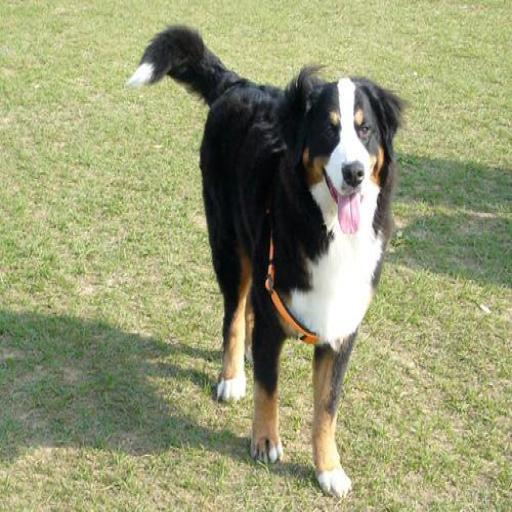dog_face: (286, 72, 404, 231)
